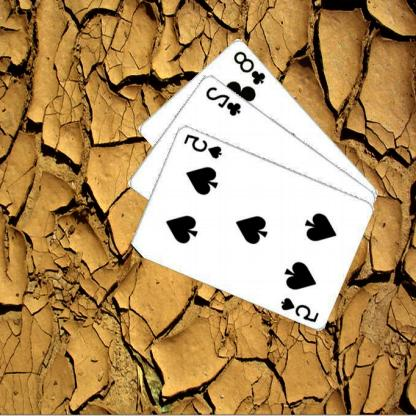2C: (204, 84, 244, 117)
5S: (183, 130, 224, 160), (280, 295, 322, 323)
8C: (232, 48, 269, 86)
